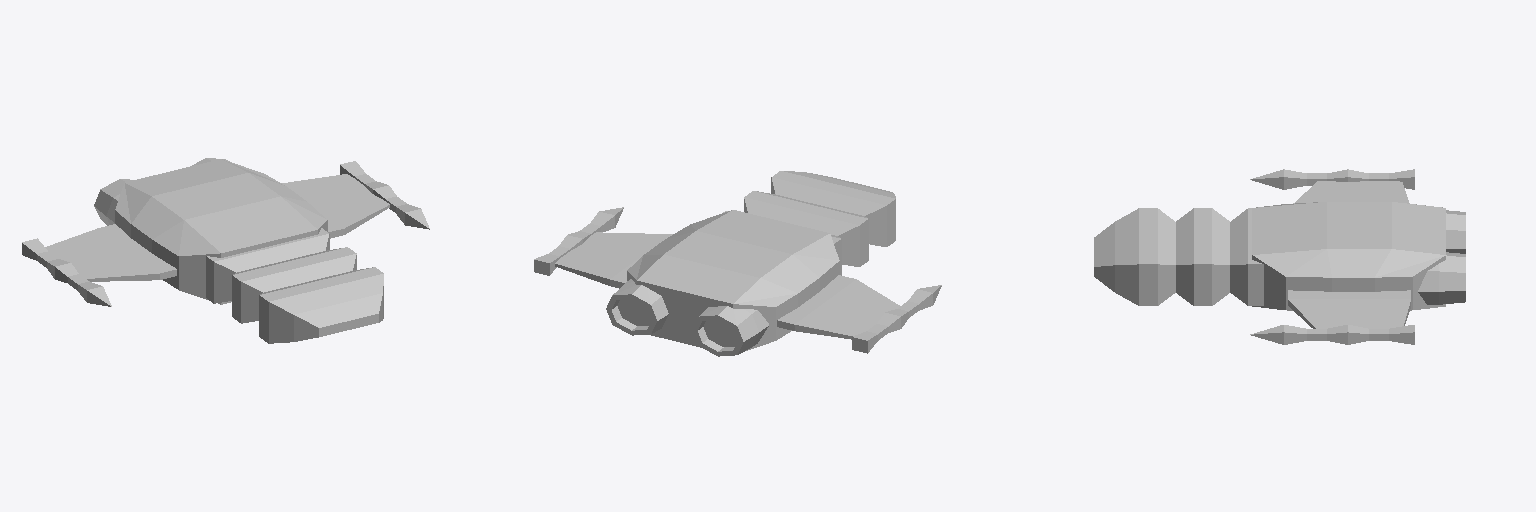
Rendered from spaceship12.obj.
The picture shows the model from 3 angles: view 1: azimuth 30°, elevation 25°; view 2: azimuth 150°, elevation 25°; view 3: azimuth 270°, elevation 25°; orthographic projection.
Parts seen in each view (by area): view 1: M1_Ship_2_Cube.047; view 2: M1_Ship_2_Cube.047; view 3: M1_Ship_2_Cube.047.
Boxes of the visible parts, box(x1,y1,x2,y2) form: M1_Ship_2_Cube.047: box(22, 158, 429, 343); M1_Ship_2_Cube.047: box(534, 171, 941, 356); M1_Ship_2_Cube.047: box(1094, 169, 1465, 344).
Size of the model in its own units: 1 by 0.1751 by 0.9661.